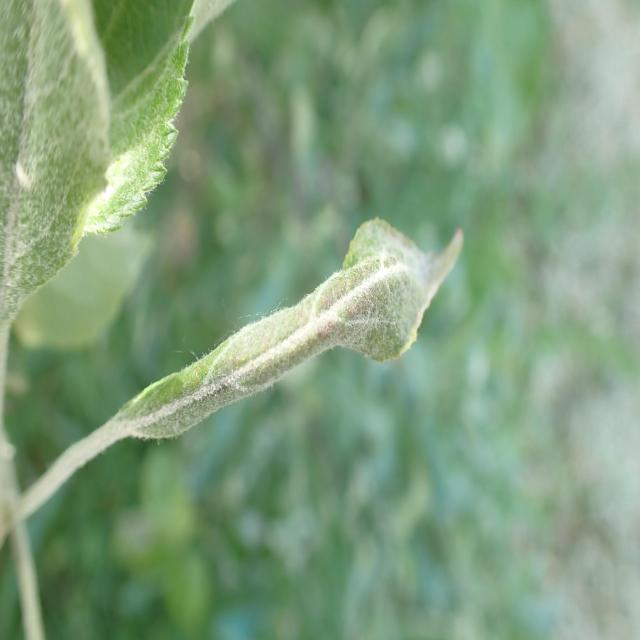Powdery_mildew: (115, 210, 475, 449), (0, 4, 114, 421), (37, 0, 213, 207)
